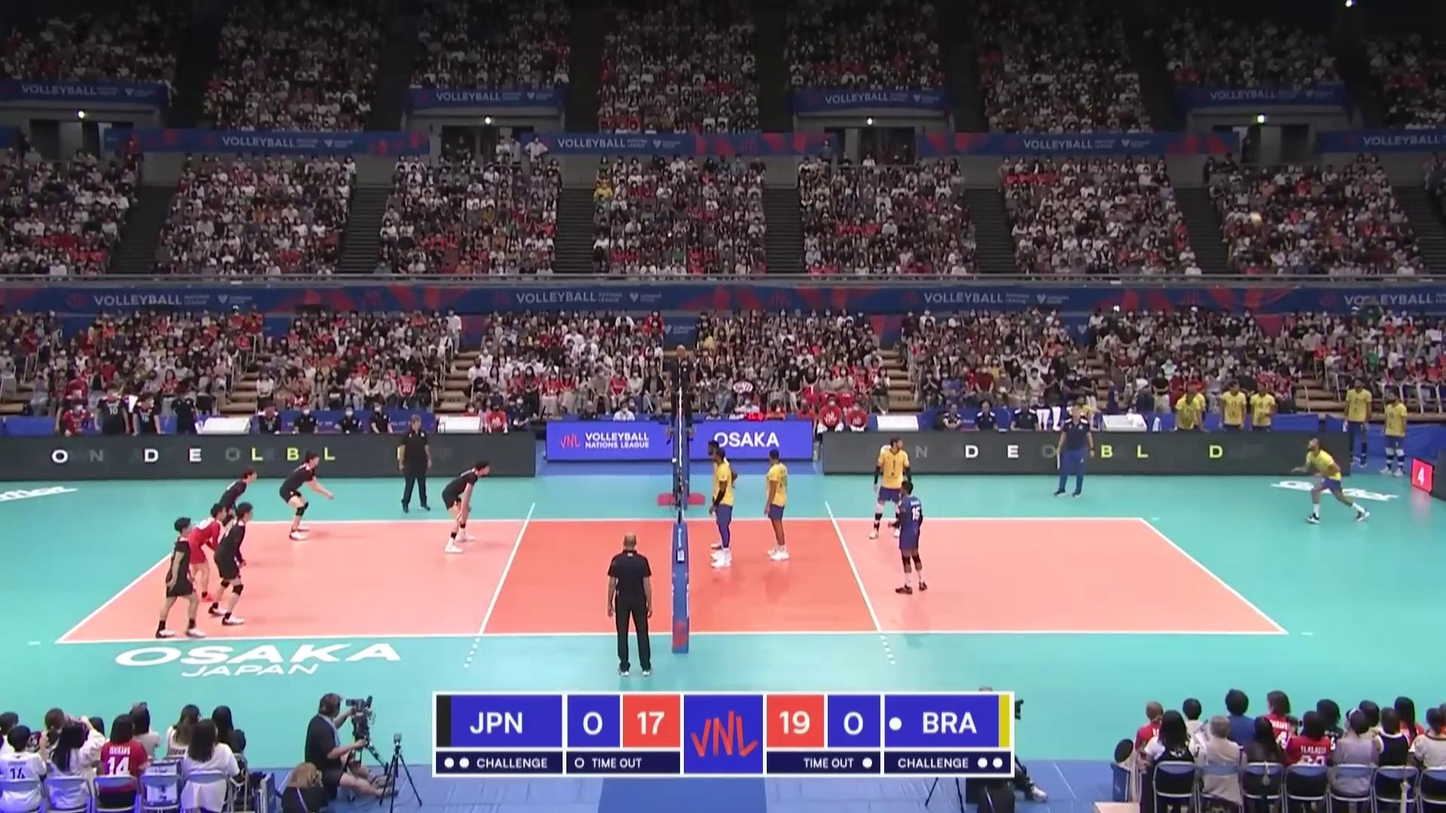player: (1294, 437, 1372, 526), (152, 517, 202, 638), (278, 450, 333, 542), (213, 503, 253, 629), (443, 459, 492, 551), (184, 504, 229, 601), (870, 437, 912, 539), (890, 480, 926, 593), (208, 471, 259, 548), (706, 441, 737, 554), (763, 449, 791, 563), (710, 448, 734, 570)
refree: (608, 535, 657, 676), (665, 346, 695, 440)
